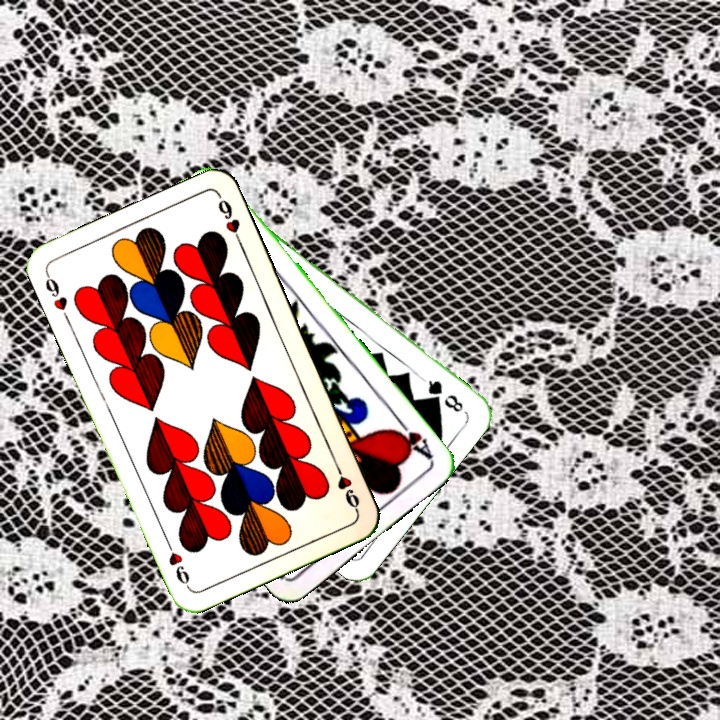G8: (418, 373, 466, 415)
H9: (330, 458, 362, 514), (41, 269, 70, 313)
HA: (387, 412, 436, 462)
